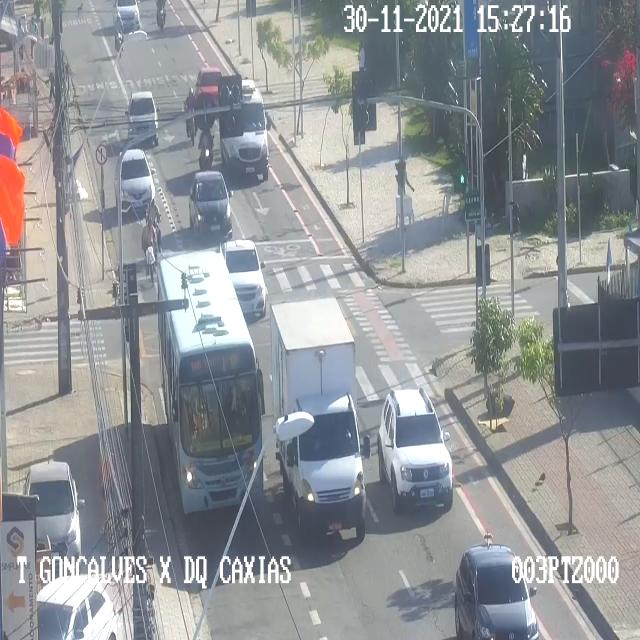Bus: (156, 251, 264, 517)
Car: (376, 389, 454, 516), (455, 545, 538, 639), (21, 458, 83, 576), (220, 79, 270, 183), (37, 574, 117, 639), (221, 238, 267, 323), (186, 169, 230, 238), (114, 146, 156, 212), (125, 92, 159, 148), (196, 65, 222, 109), (116, 0, 142, 35)
Motorcycle: (151, 0, 175, 35), (184, 88, 198, 145), (146, 198, 160, 254), (199, 126, 215, 172), (114, 12, 124, 58)
Truck: (268, 297, 366, 541)
